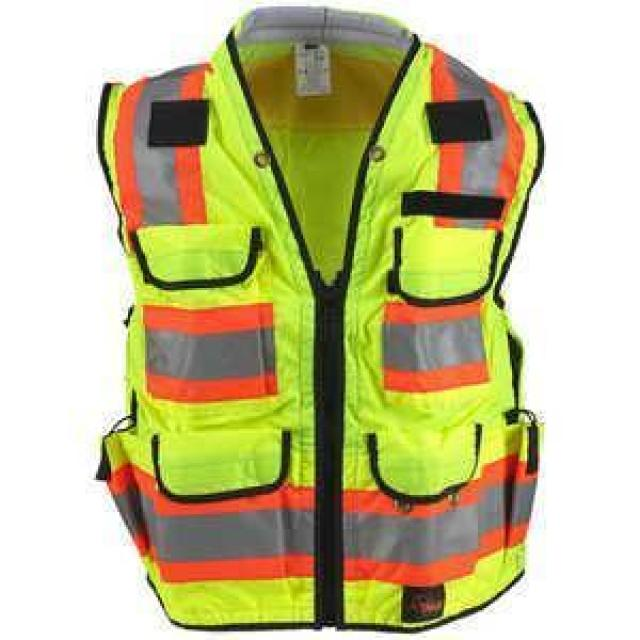Vest: (92, 6, 548, 636)
